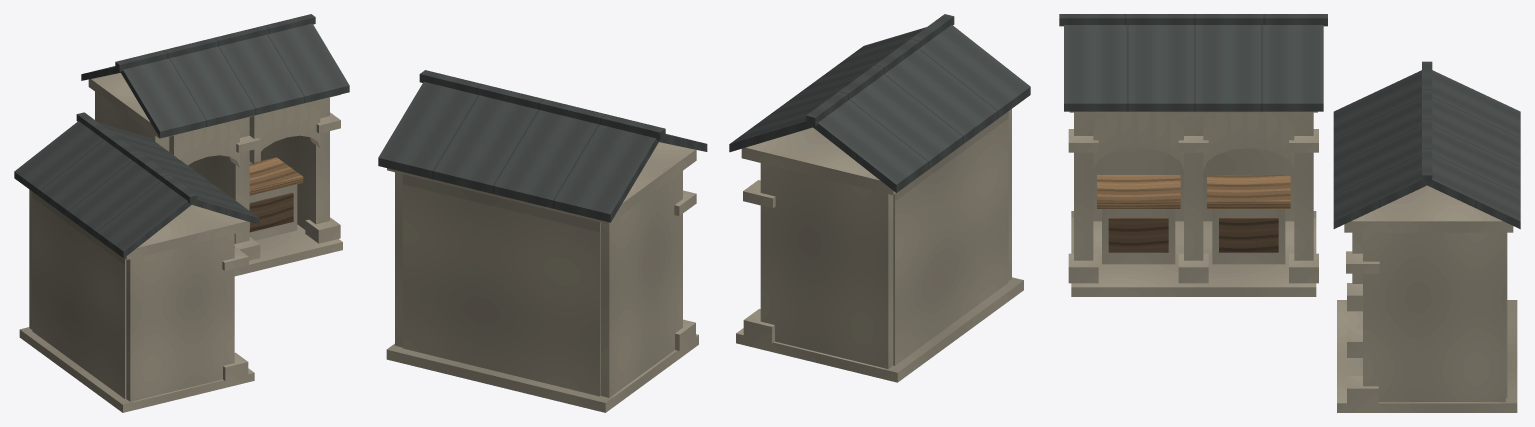
The picture shows the model from 3 angles, left to right: view 1: azimuth 30°, elevation 25°; view 2: azimuth 150°, elevation 25°; view 3: azimuth 270°, elevation 25°; orthographic projection. The views are drawn at different scales.
Visible parts, largest first — view 1: larnaca; view 2: larnaca; view 3: larnaca.
Part boxes in pixels (x1,y1,x2,y2): larnaca: (14, 14, 349, 412); larnaca: (378, 14, 1030, 412); larnaca: (1059, 14, 1520, 412).
Size of the model in its own units: 4.39 by 2.5 by 4.31.
Materials: 1 (1 with a texture image).
